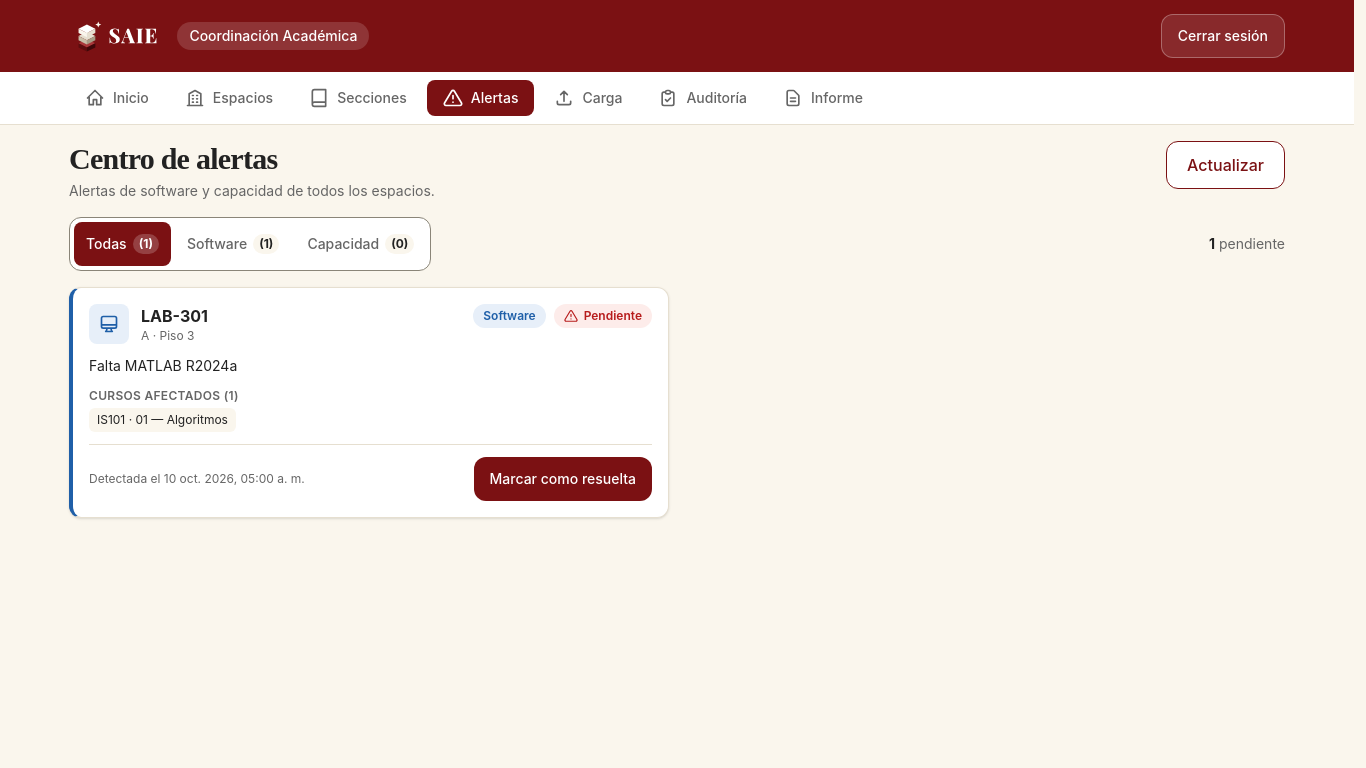
it: Lista de alertas (Issue 4.10) › muestra el error al resolver y permite reintentar la acción
Click the button "Marcar como resuelta" at (563, 479), box [474,457,652,501]
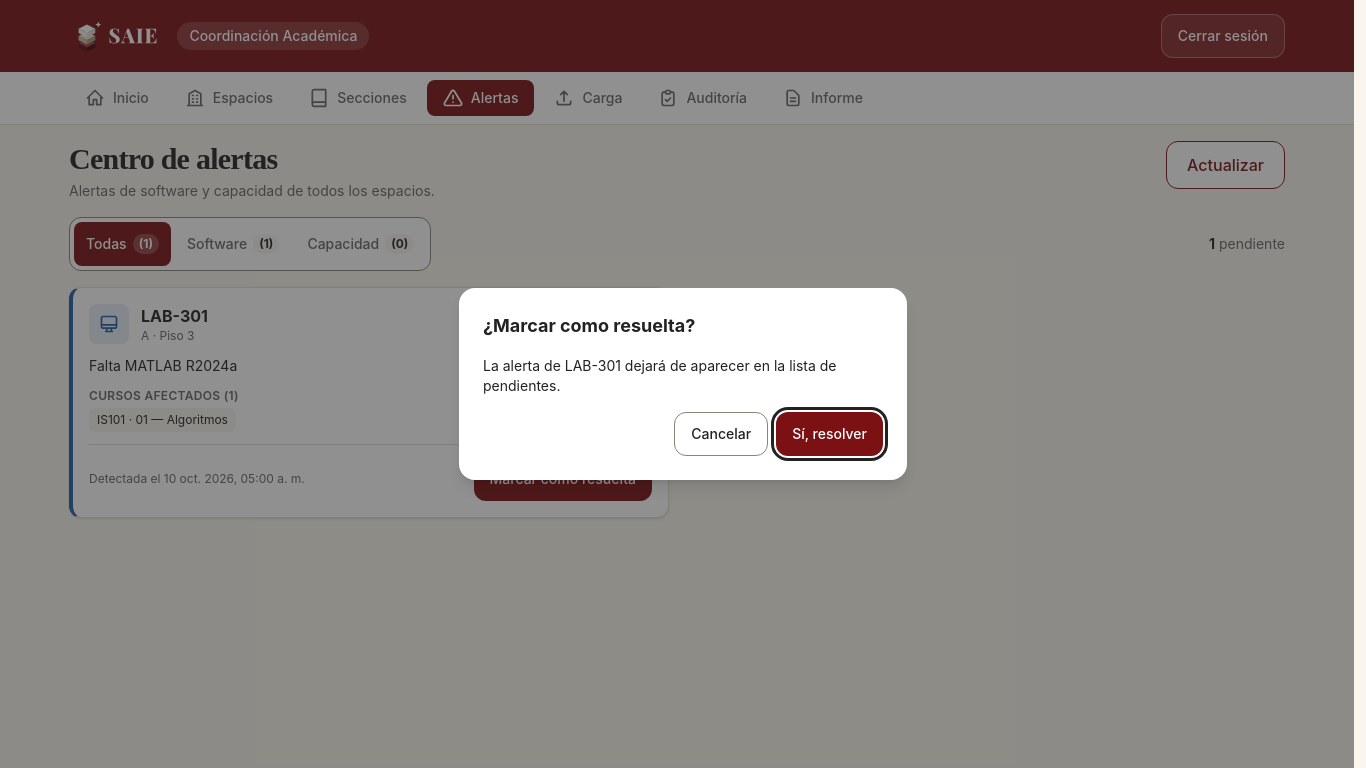
Click the button "Sí, resolver" at (830, 434), box [776,412,883,456]
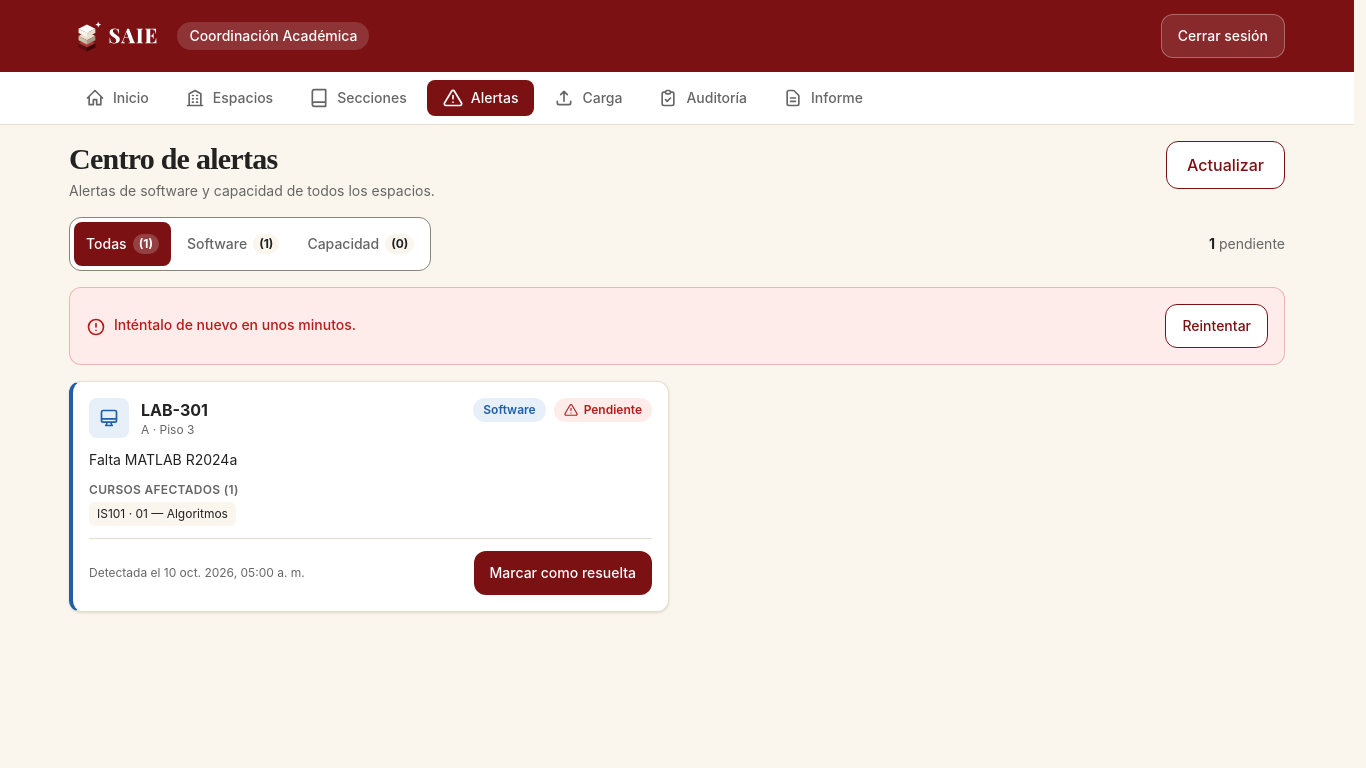
Now the message shows "Inténtalo de nuevo en unos minutos.", box [114,316,356,333]
Click the button "Reintentar" at (1217, 326), box [1166,304,1268,348]
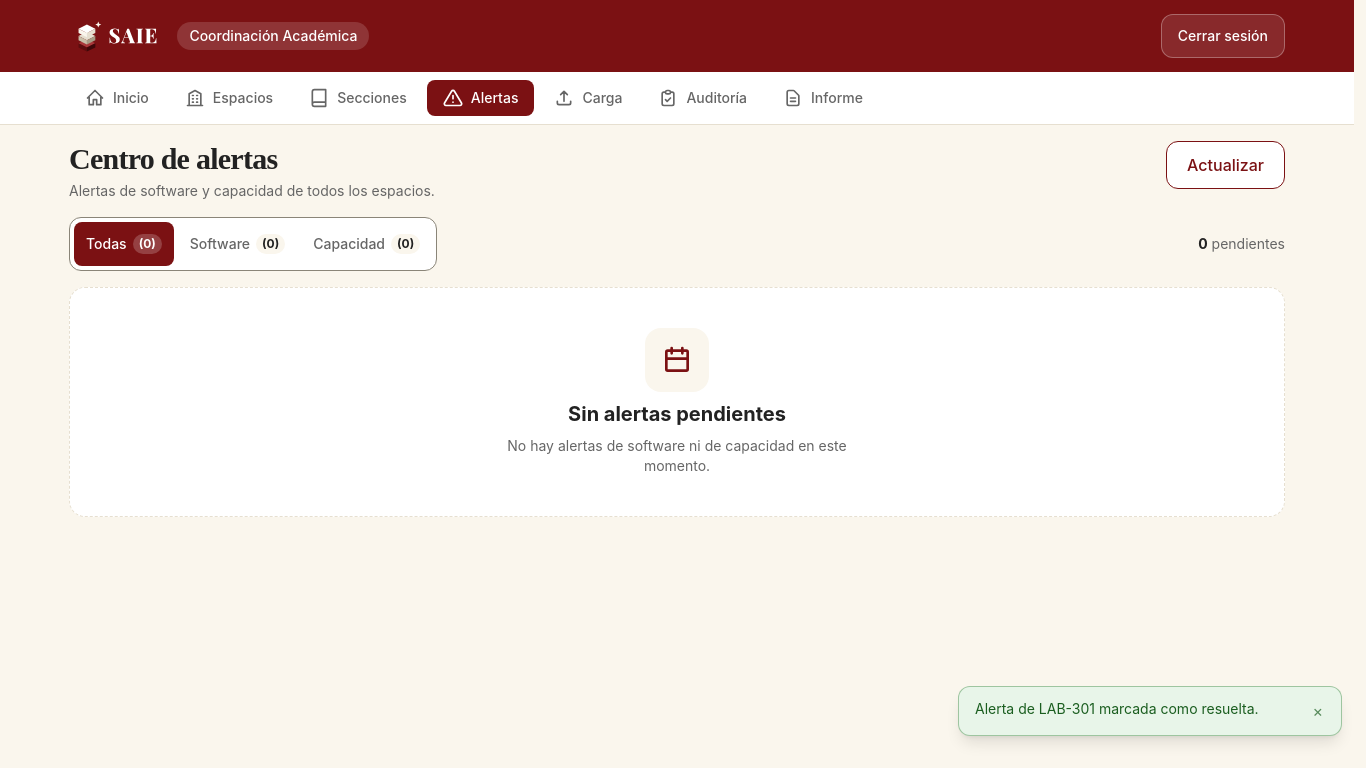
Now the text "Alerta de LAB-301 marcada como resuelta." is shown, box [975,699,1294,719]
